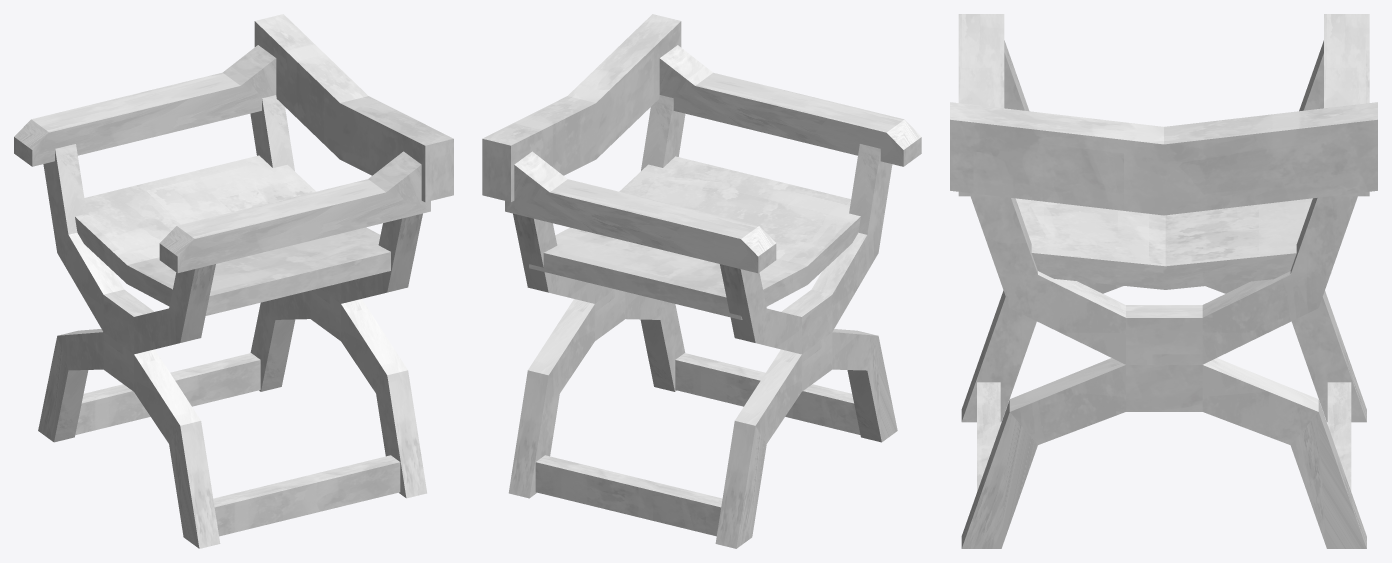
File: Chair_02.fbx
The picture shows the model from 3 angles, left to right: view 1: azimuth 30°, elevation 25°; view 2: azimuth 150°, elevation 25°; view 3: azimuth 270°, elevation 25°; orthographic projection. The views are drawn at different scales.
Parts seen in each view (by area): view 1: polySurface143; view 2: polySurface143; view 3: polySurface143.
Boxes of the visible parts, <box> form: polySurface143: <box>14,14,453,548</box>; polySurface143: <box>482,14,921,548</box>; polySurface143: <box>950,14,1377,548</box>.
Size of the model in its own units: 1.15 by 1.43 by 1.25.
